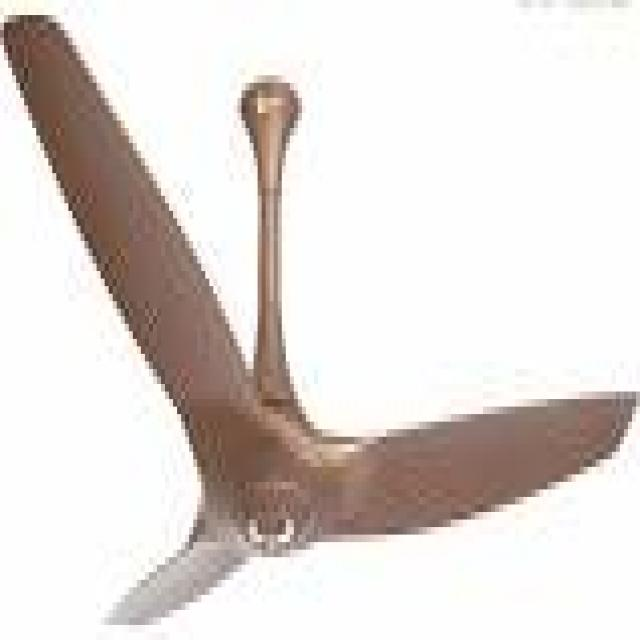fan: (1, 12, 638, 627)
